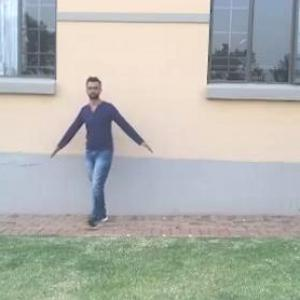land: (55, 81, 158, 237)
